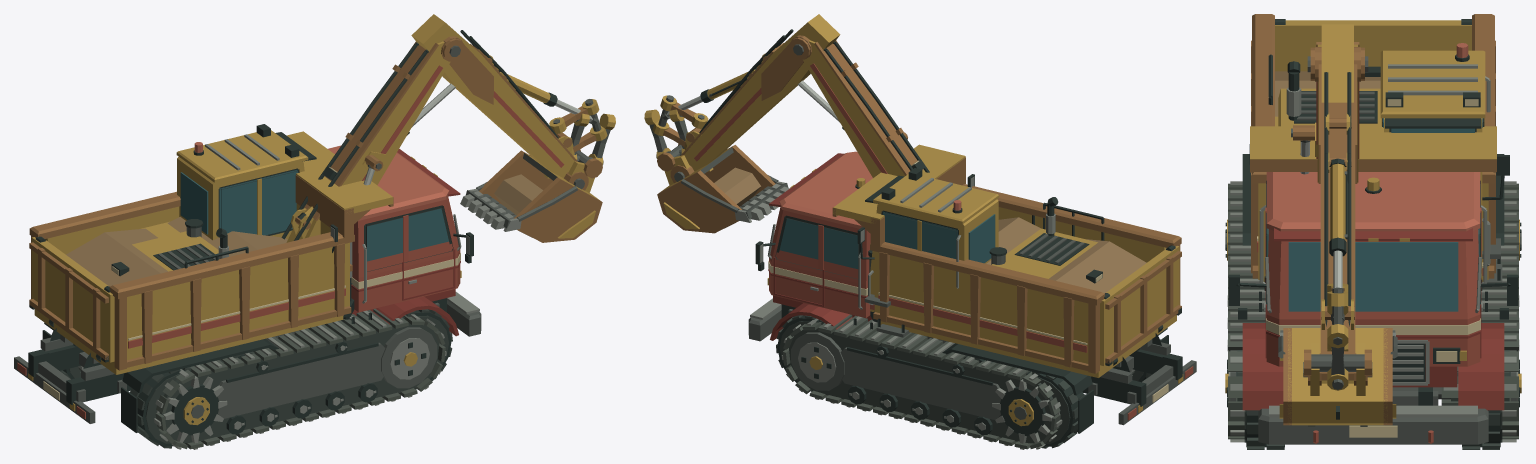
Rendered from riverside-earthworks-kit.glb.
The picture shows the model from 3 angles, left to right: view 1: azimuth 30°, elevation 25°; view 2: azimuth 150°, elevation 25°; view 3: azimuth 270°, elevation 25°; orthographic projection. The views are drawn at different scales.
Visible parts, largest first — view 1: GEO-dumptruck-bed, GEO-dumptruck-chassis-cab, GEO-excavator-upperworks, GEO-excavator-track-R-belt, GEO-excavator-boom, GEO-excavator-stick, GEO-excavator-bucket, GEO-dumptruck-tailgate, GEO-excavator-undercarriage, GEO-dumptruck-payload, GEO-excavator-track-R-wheel-0, GEO-excavator-track-R-wheel-8 (+5 smaller); view 2: GEO-dumptruck-bed, GEO-dumptruck-chassis-cab, GEO-excavator-upperworks, GEO-excavator-track-L-belt, GEO-excavator-boom, GEO-excavator-stick, GEO-excavator-bucket, GEO-dumptruck-tailgate, GEO-excavator-undercarriage, GEO-dumptruck-payload, GEO-excavator-track-L-wheel-0, GEO-excavator-track-L-wheel-8 (+5 smaller); view 3: GEO-dumptruck-chassis-cab, GEO-dumptruck-bed, GEO-excavator-upperworks, GEO-excavator-stick, GEO-excavator-bucket, GEO-dumptruck-tailgate, GEO-excavator-track-L-belt, GEO-excavator-track-R-belt, GEO-cylinder-bucket-barrel, GEO-excavator-boom, GEO-bucket-link, GEO-dumptruck-payload (+4 smaller).
Part boxes in pixels (<box>): GEO-dumptruck-bed: <box>29,131,393,374</box>; GEO-dumptruck-chassis-cab: <box>14,145,481,432</box>; GEO-excavator-upperworks: <box>111,124,354,317</box>; GEO-excavator-track-R-belt: <box>154,308,446,449</box>; GEO-excavator-boom: <box>281,38,464,242</box>; GEO-excavator-stick: <box>411,14,577,178</box>; GEO-excavator-bucket: <box>460,149,602,242</box>; GEO-dumptruck-tailgate: <box>29,236,114,362</box>; GEO-excavator-undercarriage: <box>218,331,385,418</box>; GEO-dumptruck-payload: <box>66,216,287,286</box>; GEO-excavator-track-R-wheel-0: <box>381,327,437,388</box>; GEO-excavator-track-R-wheel-8: <box>163,376,227,443</box>; GEO-dumptruck-bed: <box>832,144,1181,377</box>; GEO-dumptruck-chassis-cab: <box>748,151,1196,433</box>; GEO-excavator-upperworks: <box>857,168,1104,337</box>; GEO-excavator-track-L-belt: <box>782,314,1062,449</box>; GEO-excavator-boom: <box>789,37,929,177</box>; GEO-excavator-stick: <box>681,14,840,171</box>; GEO-excavator-bucket: <box>657,143,789,233</box>; GEO-dumptruck-tailgate: <box>1100,245,1181,365</box>; GEO-excavator-undercarriage: <box>840,336,1000,419</box>; GEO-dumptruck-payload: <box>986,217,1146,293</box>; GEO-excavator-track-L-wheel-0: <box>791,332,844,390</box>; GEO-excavator-track-L-wheel-8: <box>992,379,1053,443</box>; GEO-dumptruck-chassis-cab: <box>1228,154,1518,444</box>; GEO-dumptruck-bed: <box>1250,14,1496,281</box>; GEO-excavator-upperworks: <box>1249,43,1509,290</box>; GEO-excavator-stick: <box>1315,24,1360,383</box>; GEO-excavator-bucket: <box>1278,328,1397,426</box>; GEO-dumptruck-tailgate: <box>1275,19,1471,71</box>; GEO-excavator-track-L-belt: <box>1441,181,1518,442</box>; GEO-excavator-track-R-belt: <box>1228,181,1265,442</box>; GEO-cylinder-bucket-barrel: <box>1329,158,1348,256</box>; GEO-excavator-boom: <box>1291,42,1368,182</box>; GEO-bucket-link: <box>1327,305,1348,390</box>; GEO-dumptruck-payload: <box>1275,71,1380,116</box>.
Bounding box in the file's own units: 8.36 × 4.84 × 2.83.
